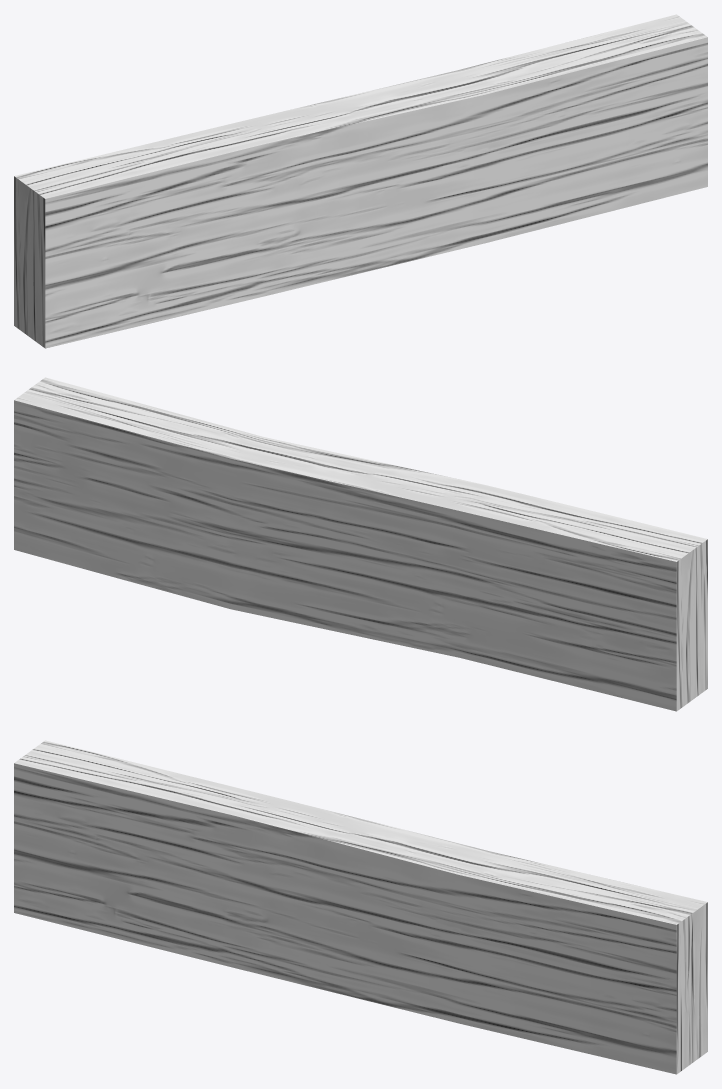
The model's file is ARC0110023.fbx.
3 views of the same model, one above another, from view 1: azimuth 30°, elevation 25°; view 2: azimuth 150°, elevation 25°; view 3: azimuth 330°, elevation 25° (orthographic).
Parts seen in each view (by area): view 1: smARC0110023; view 2: smARC0110023; view 3: smARC0110023.
Boxes of the visible parts, x1,y1,x2,y2 form: smARC0110023: (14,14,707,348); smARC0110023: (14,377,707,711); smARC0110023: (14,740,707,1074).
Size of the model in its own units: 156 by 34.86 by 14.66.
Materials: 1 (1 with a texture image).
